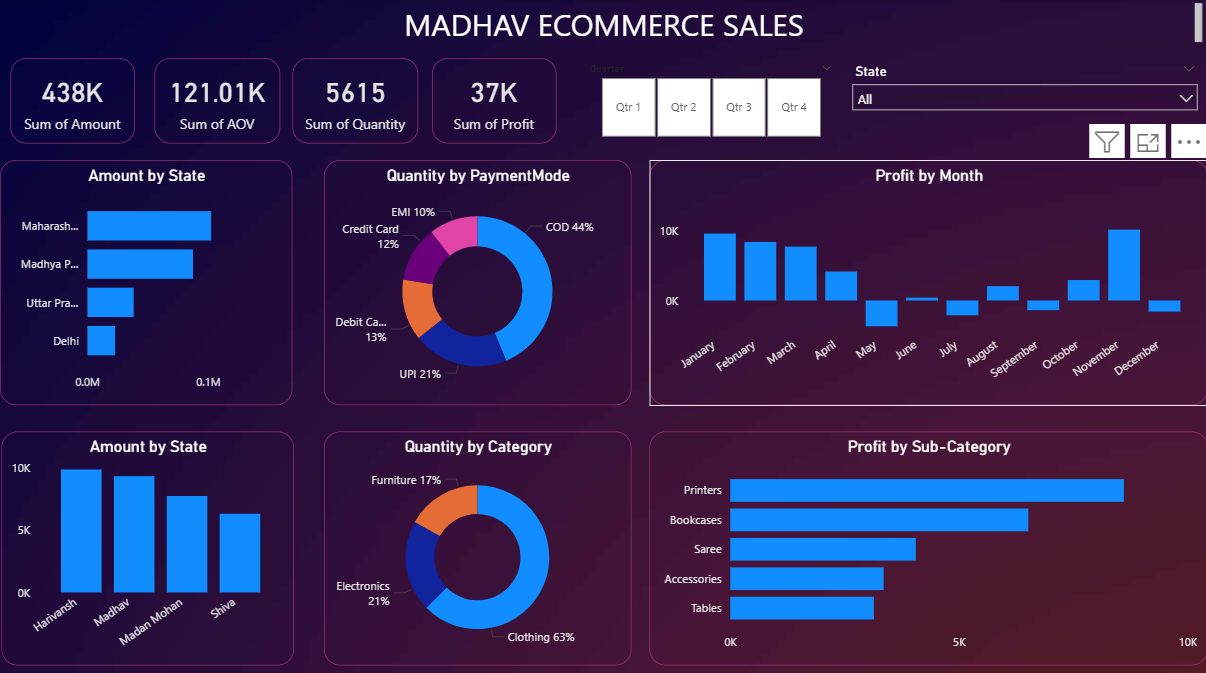

Layout of this report page (visuals, bound fields, positions):
{"tool":"powerbi","page":{"name":"Sales Analysis","canvas":[1280,720],"ordinal":0},"visuals":[{"type":"textbox","box":[10,0,1270,52],"z":0},{"type":"columnChart","title":"Profit by Month","fields":{"Category":["Orders.Order Date.Variation.Date Hierarchy.Month"],"Y":["Details.Profit"]},"box":[688,172,592,260],"z":1000},{"type":"barChart","title":"Profit by Sub-Category","fields":{"Category":["Details.Sub-Category"],"Y":["Details.Profit"]},"box":[688,460,592,248],"z":2000},{"type":"donutChart","title":"Quantity by Category","fields":{"Category":["Details.Category"],"Y":["Details.Quantity"]},"box":[344,460,326,248],"z":3000},{"type":"donutChart","title":"Quantity by PaymentMode","fields":{"Category":["Details.PaymentMode"],"Y":["Details.Quantity"]},"box":[344,172,326,260],"z":4000},{"type":"card","fields":{"Values":["Details.Quantity"]},"box":[310.2,63.6,133.6,90.7],"z":5000},{"type":"card","fields":{"Values":["Details.Profit"]},"box":[458.1,63.6,132,90.7],"z":6000},{"type":"card","fields":{"Values":["Details.Amount"]},"box":[11.1,63.6,132,90.7],"z":7000},{"type":"card","fields":{"Values":["Details.AOV"]},"box":[163.8,63.6,133.6,90.7],"z":8000},{"type":"barChart","title":"Amount by State","fields":{"Category":["Orders.State"],"Y":["Details.Amount"]},"box":[0,172,310,260],"z":9000},{"type":"columnChart","title":"Amount by State","fields":{"Category":["Orders.CustomerName"],"Y":["Details.Amount"]},"box":[2,460,310,248],"z":10000},{"type":"slicer","fields":{"Values":["Orders.Order Date.Variation.Date Hierarchy.Quarter"]},"box":[612,64,282,90],"z":11000},{"type":"slicer","fields":{"Values":["Orders.State"]},"box":[894,64,386,90],"z":12000}]}

Visuals, with their boxes in screenshot pixels (x1, y1, x2, y2), scaled from the page's 1280x720 canvas onto the 1206x673 screenshot:
textbox: bbox=[9, 0, 1205, 49]
"Profit by Month" columnChart: bbox=[648, 161, 1205, 404]
"Profit by Sub-Category" barChart: bbox=[648, 430, 1205, 662]
"Quantity by Category" donutChart: bbox=[324, 430, 631, 662]
"Quantity by PaymentMode" donutChart: bbox=[324, 161, 631, 404]
card - Details.Quantity: bbox=[292, 59, 418, 144]
card - Details.Profit: bbox=[432, 59, 556, 144]
card - Details.Amount: bbox=[10, 59, 135, 144]
card - Details.AOV: bbox=[154, 59, 280, 144]
"Amount by State" barChart: bbox=[0, 161, 292, 404]
"Amount by State" columnChart: bbox=[2, 430, 294, 662]
slicer - Orders.Order Date.Variation.Date Hierarchy.Quarter: bbox=[577, 60, 842, 144]
slicer - Orders.State: bbox=[842, 60, 1205, 144]
